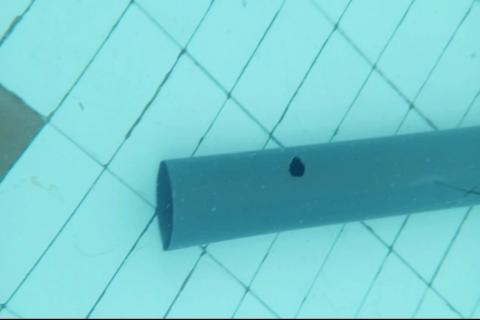kebocoran: (289, 154, 305, 178)
keretakan: (431, 177, 480, 200)
